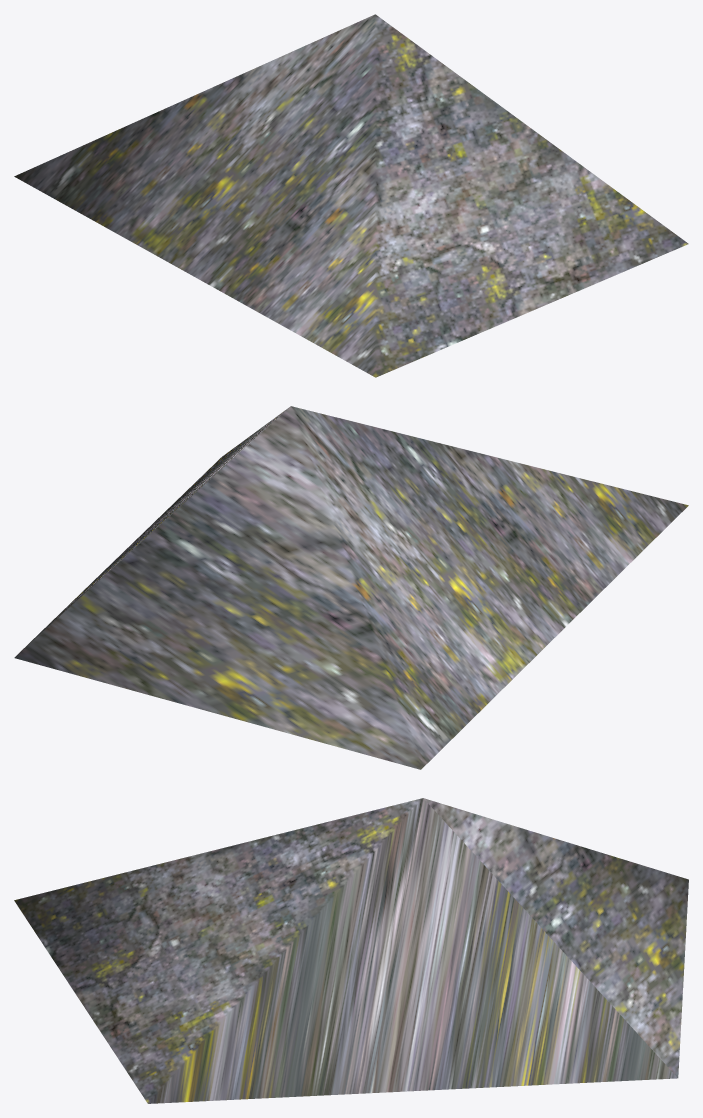
File: rock_weatheredmossy_large_a2_l3.fbx
3 views of the same model, one above another, from view 1: azimuth 30°, elevation 25°; view 2: azimuth 150°, elevation 25°; view 3: azimuth 270°, elevation 25° (orthographic). The views are drawn at different scales.
Visible parts, largest first — view 1: mesh_node; view 2: mesh_node; view 3: mesh_node.
Boxes of the visible parts, box(x1,y1,x2,y2) form: mesh_node: box(14, 14, 688, 377); mesh_node: box(14, 406, 688, 769); mesh_node: box(14, 798, 688, 1103).
Size of the model in its own units: 1.02 by 0.435 by 1.26.
Materials: 1 (1 with a texture image).
